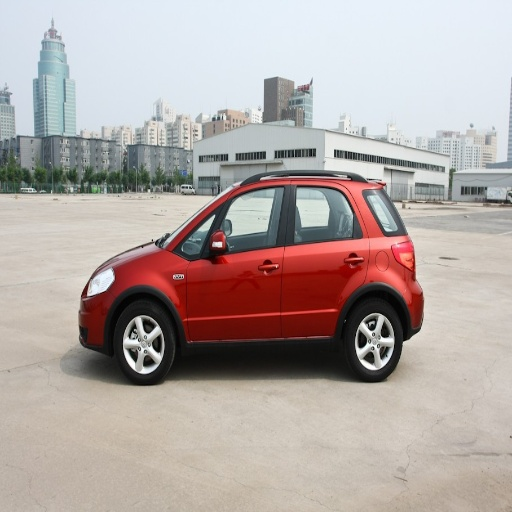back_left_door: (283, 179, 370, 334)
front_left_door: (183, 180, 289, 338)
